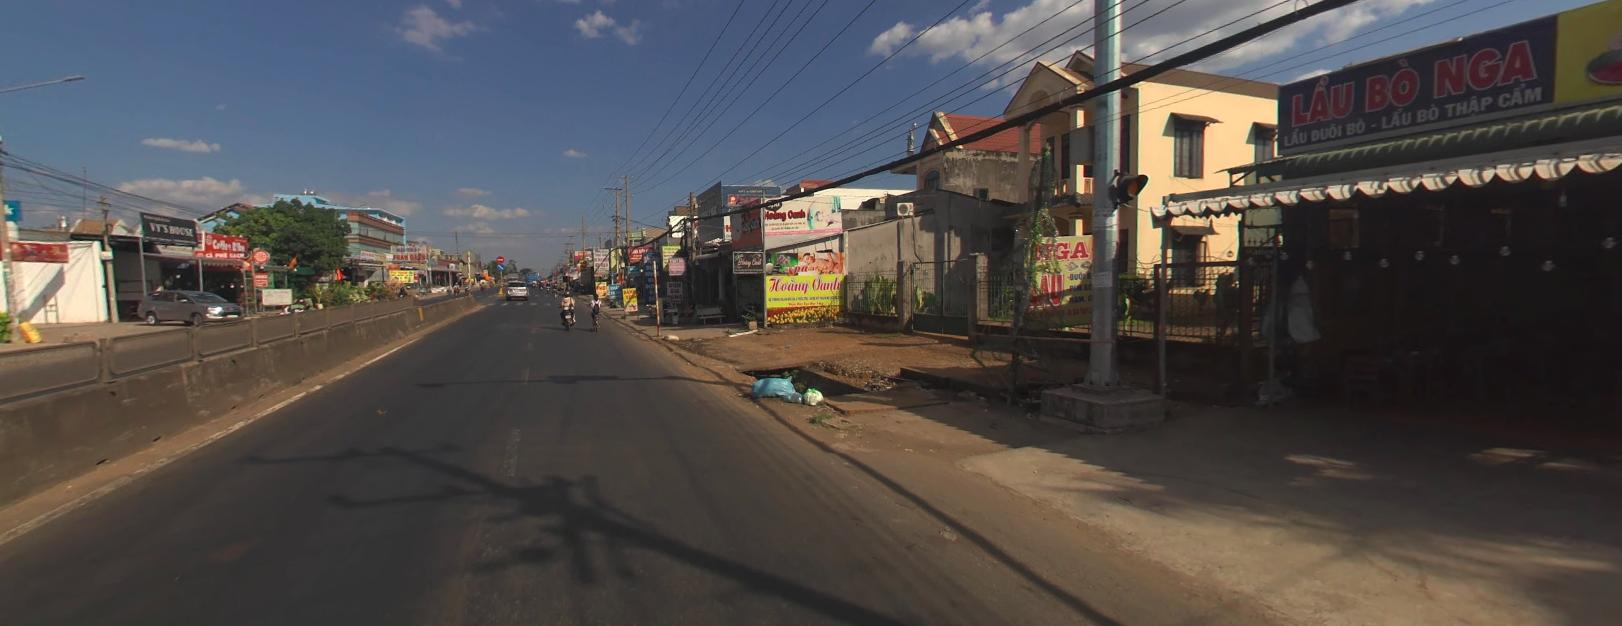Cam nguoc chieu: (495, 254, 503, 261)
Hieu lenh: (497, 262, 504, 269)
